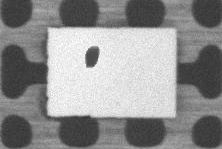DIE_INK: (83, 45, 100, 67)
